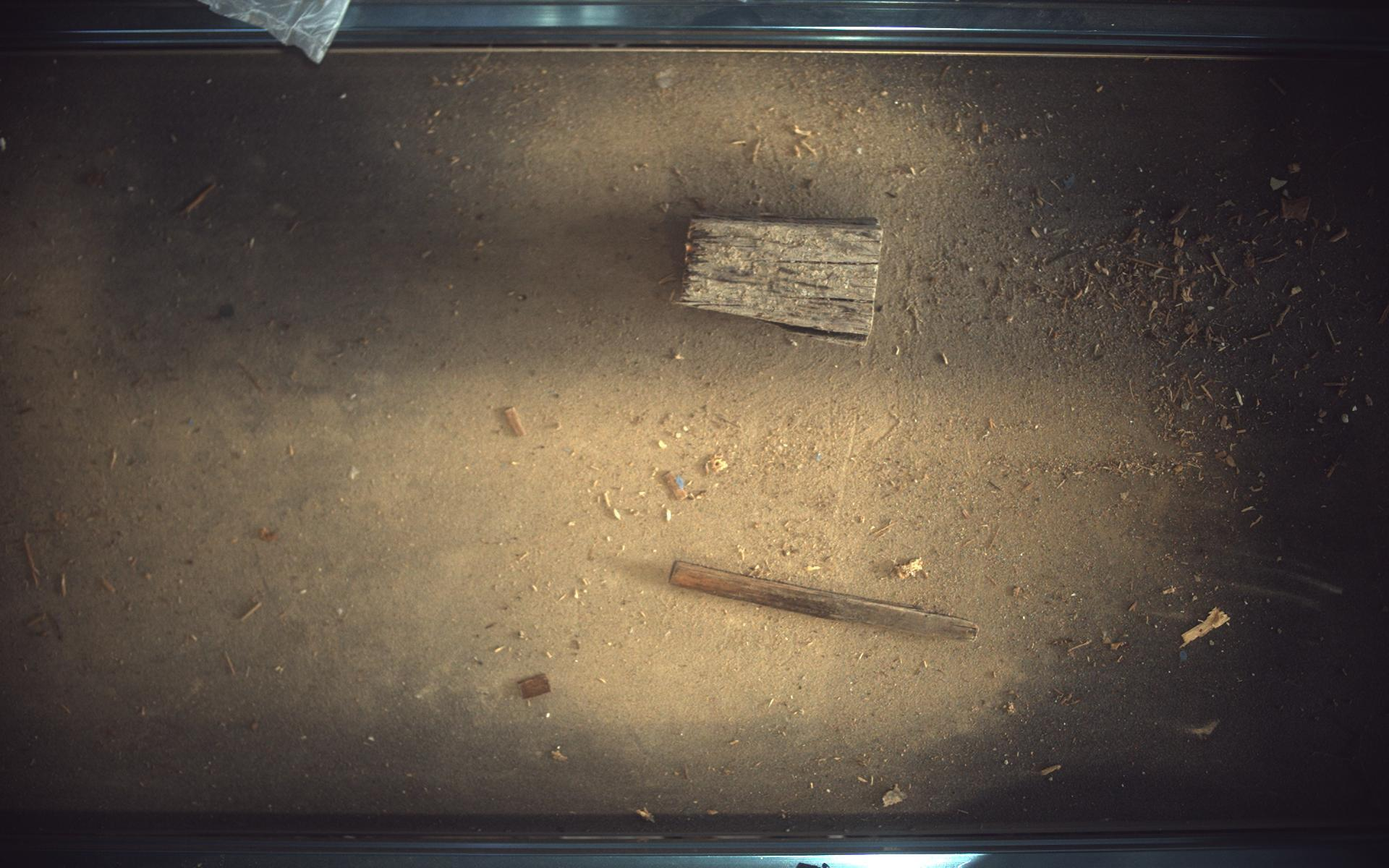wood: (676, 214, 884, 344), (671, 561, 980, 641)
